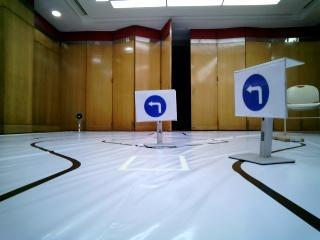left: (237, 63, 280, 119), (136, 92, 176, 123)
